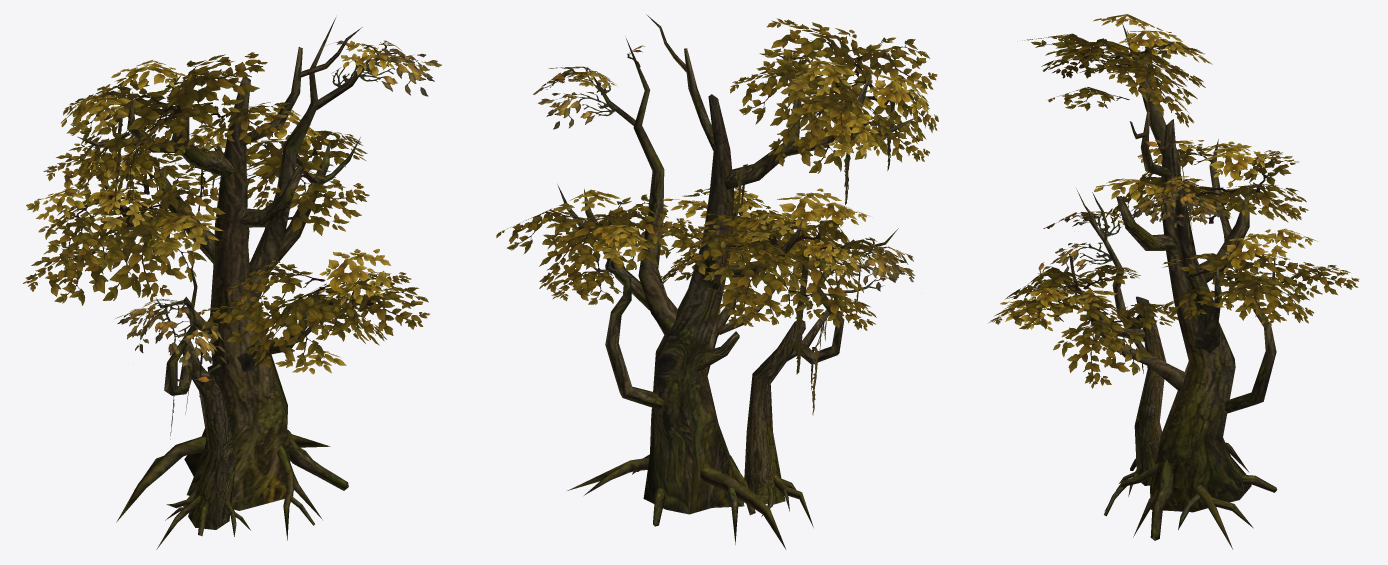
Rendered from fb_bangzhan_Trees02.FBX.
3 views of the same model, side by side, from view 1: azimuth 30°, elevation 25°; view 2: azimuth 150°, elevation 25°; view 3: azimuth 270°, elevation 25° (orthographic). The views are drawn at different scales.
Visible parts, largest first — view 1: DrawCall_0020; view 2: DrawCall_0020; view 3: DrawCall_0020.
Boxes of the visible parts, bbox=[...] form: DrawCall_0020: bbox=[23, 17, 441, 549]; DrawCall_0020: bbox=[496, 14, 938, 549]; DrawCall_0020: bbox=[989, 14, 1359, 549].
Size of the model in its own units: 1585 by 1874 by 1488.
